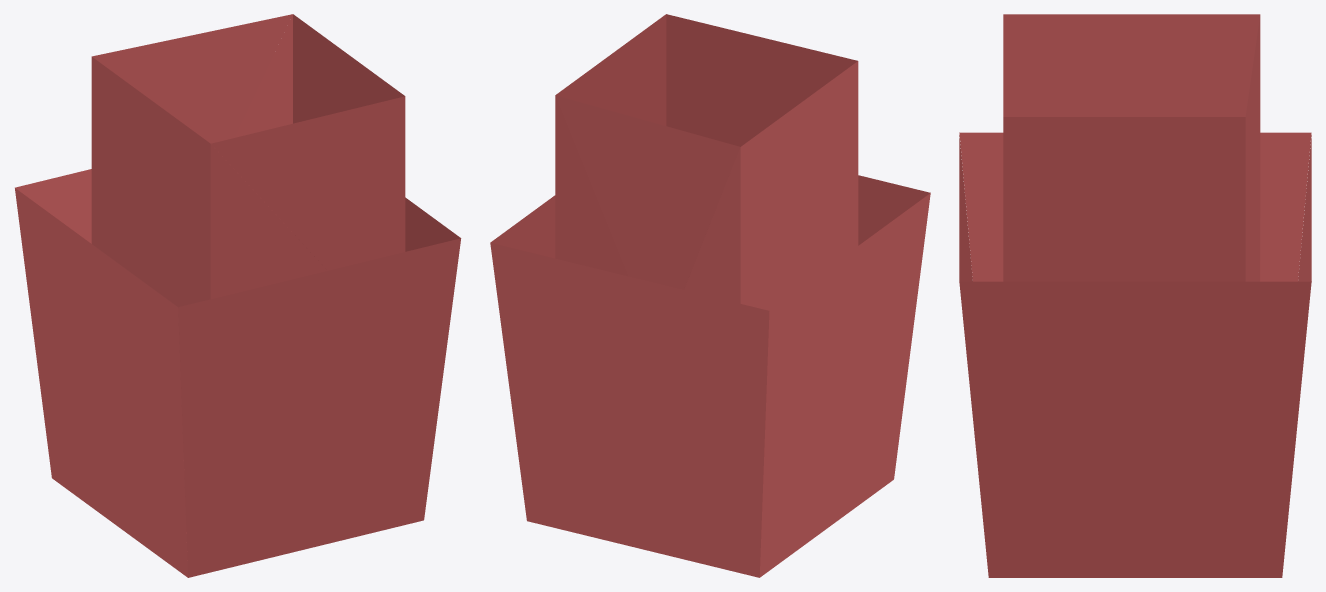
The model's file is col_water_city.glb.
3 renders of one model, left to right at view 1: azimuth 30°, elevation 25°; view 2: azimuth 150°, elevation 25°; view 3: azimuth 270°, elevation 25°, orthographic. The views are drawn at different scales.
Parts seen in each view (by area): view 1: water_city_col; view 2: water_city_col; view 3: water_city_col.
Boxes of the visible parts, x1,y1,x2,y2 form: water_city_col: (15, 14, 461, 577); water_city_col: (490, 14, 930, 577); water_city_col: (959, 14, 1311, 577).
Size of the model in its own units: 12.02 by 17.12 by 12.02.
